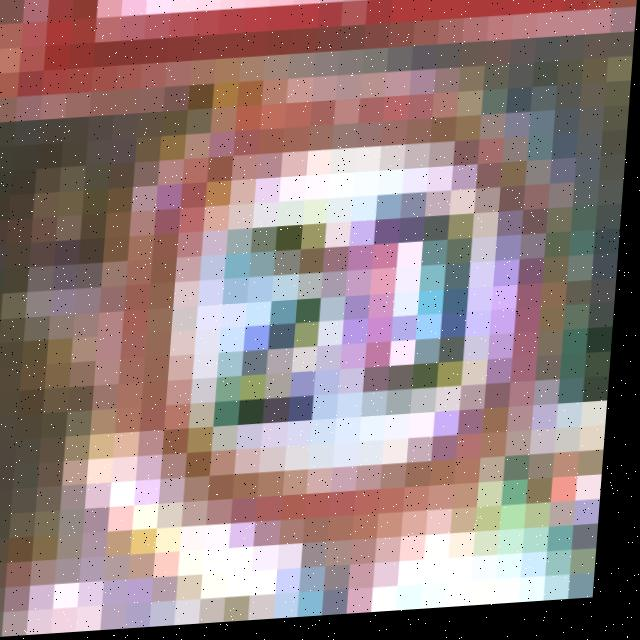speed_limit_20: (96, 75, 570, 585)
